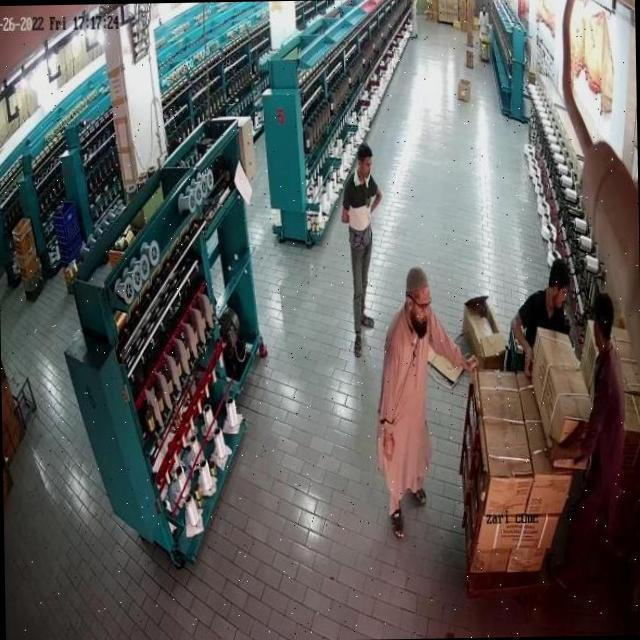person: (376, 261, 449, 548), (520, 252, 575, 390), (347, 138, 378, 356), (480, 0, 492, 70)
